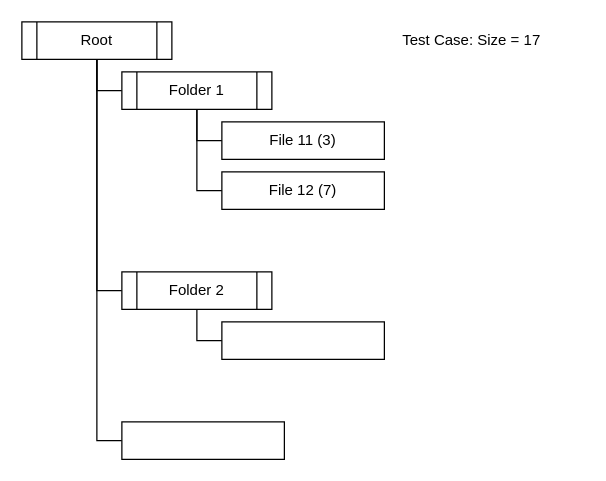
Image size: 606x481. Some labels were removed from this diagram. The centre of each missing label's shape, as x and y in pixels:
"File 0 (2)" belongs at (x=202, y=440).
"File 21 (5)" belongs at (x=302, y=340).
